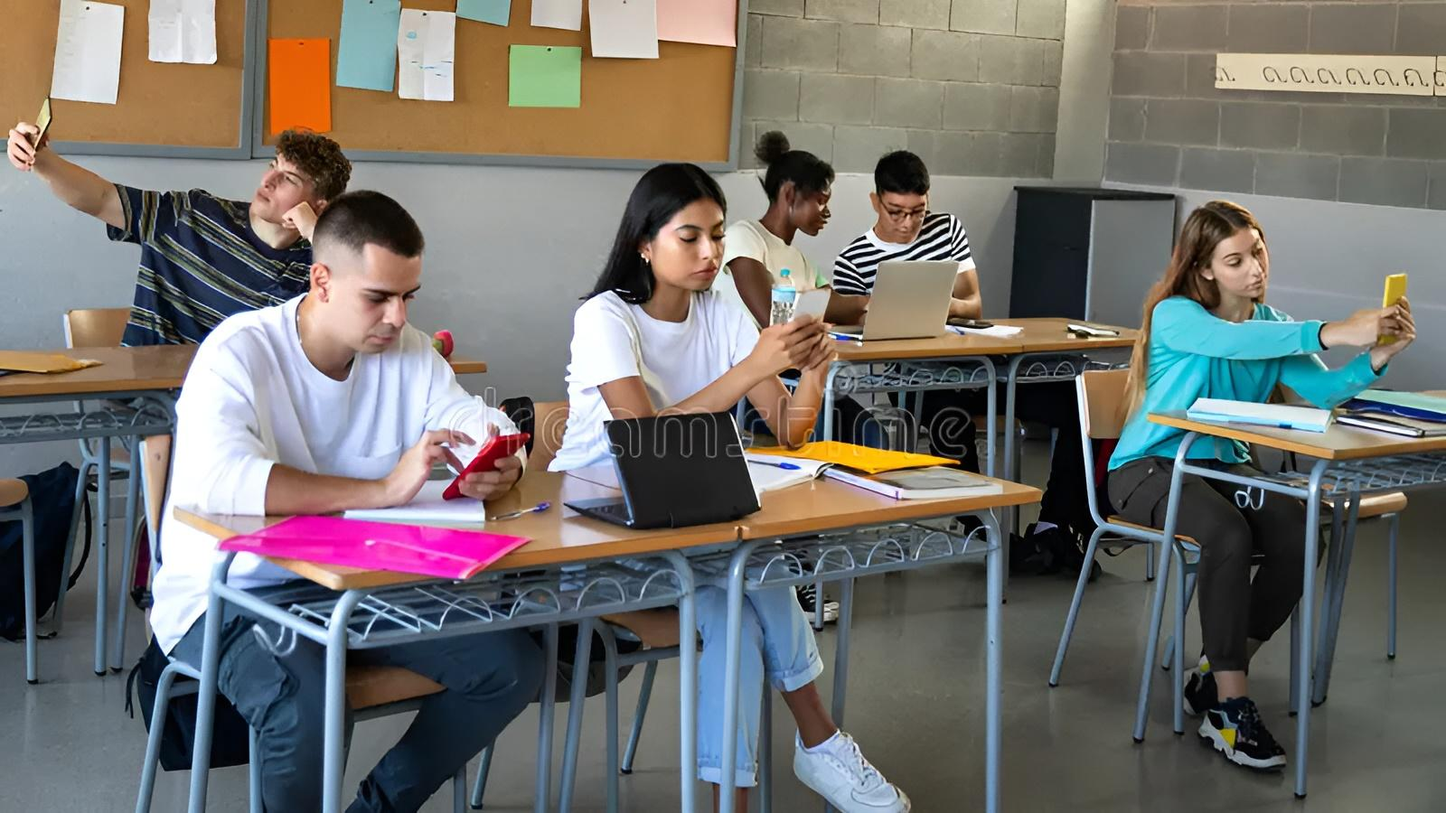phone: (168, 194, 531, 519), (552, 165, 832, 464), (4, 86, 348, 327), (1138, 201, 1420, 408)
